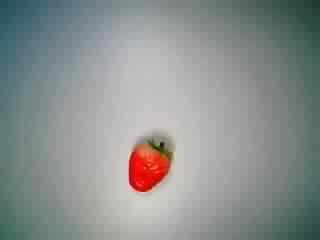strawberry: (116, 131, 182, 193)
